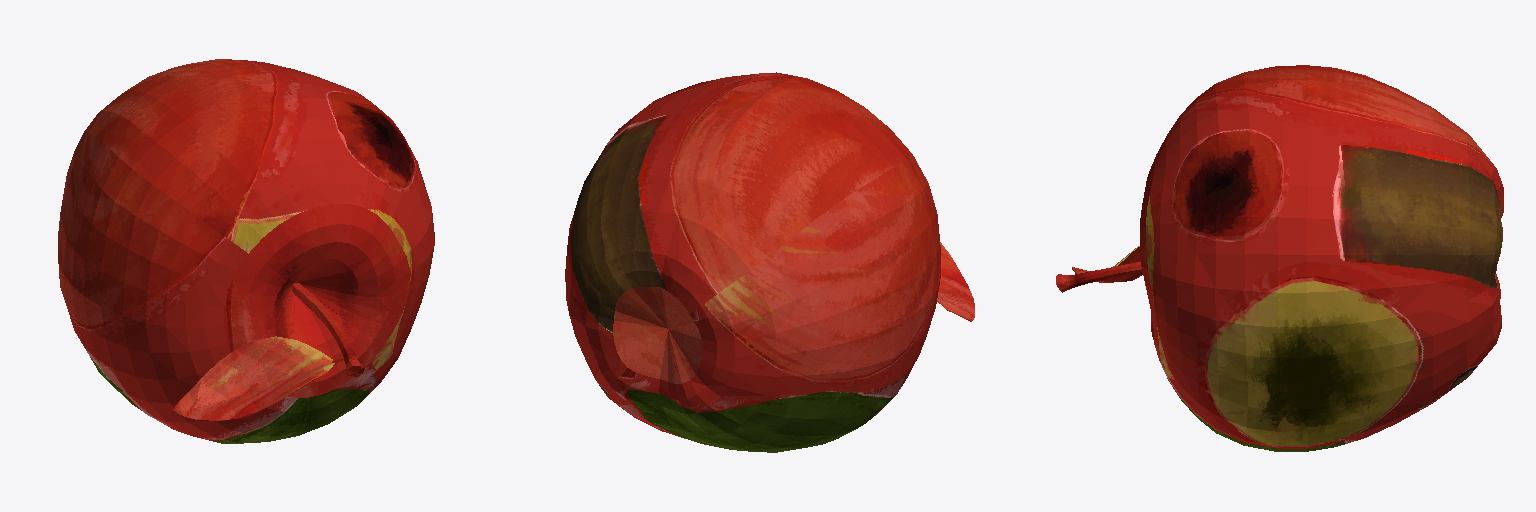
3 views of the same model, side by side, from view 1: azimuth 30°, elevation 25°; view 2: azimuth 150°, elevation 25°; view 3: azimuth 270°, elevation 25° (orthographic).
Parts seen in each view (by area): view 1: Object.1; view 2: Object.1; view 3: Object.1.
Boxes of the visible parts, x1=… form: Object.1: x1=58, y1=59, x2=434, y2=443; Object.1: x1=565, y1=72, x2=974, y2=452; Object.1: x1=1056, y1=65, x2=1503, y2=451.
Size of the model in its own units: 200 by 207 by 245.
Materials: 1 (1 with a texture image).